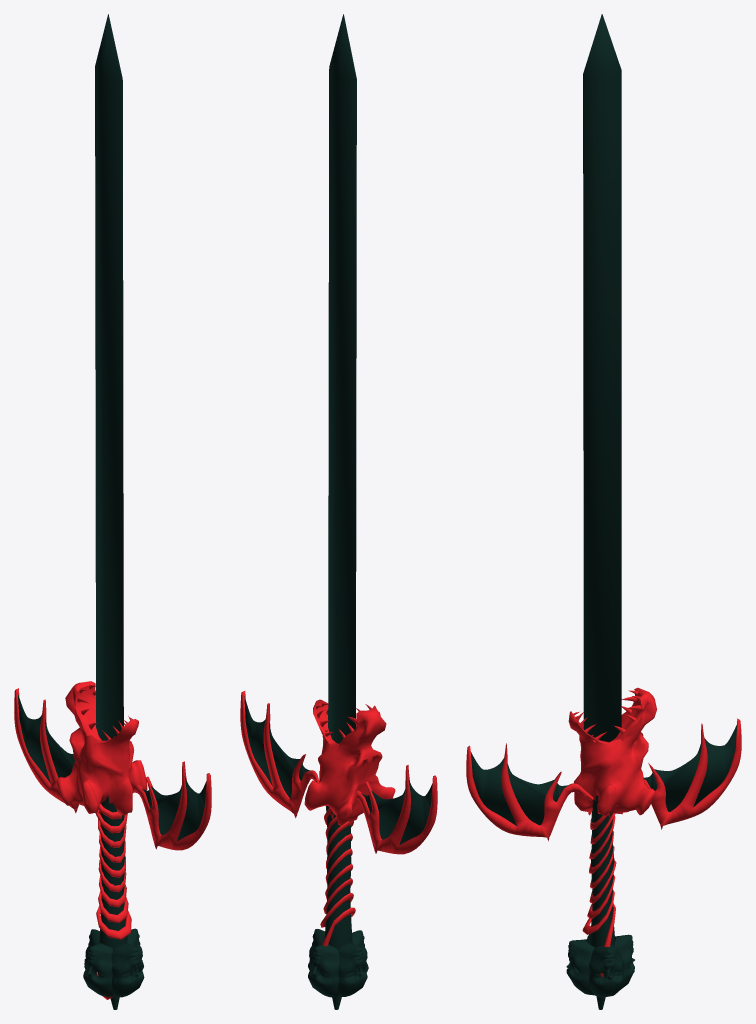
The model's file is xuejiao.FBX.
3 views of the same model, side by side, from view 1: azimuth 30°, elevation 25°; view 2: azimuth 210°, elevation 25°; view 3: azimuth 270°, elevation 25° (orthographic).
Visible parts, largest first — view 1: Box01, head, Spring01, Line04, Cylinder01, Line03, Line06, Line01, CreatureCreatorObject03, CreatureCreatorObject04; view 2: Box01, head, Line01, Cylinder01, Line04, Line06, Line03, Spring01, CreatureCreatorObject01, CreatureCreatorObject02; view 3: Box01, head, Line04, Line03, Line06, Line01, Cylinder01, Spring01, CreatureCreatorObject01, CreatureCreatorObject03, CreatureCreatorObject02.
Part boxes in pixels (box(x1,y1,x2,y2)): Box01: box(95, 14, 123, 740); head: box(56, 681, 147, 815); Spring01: box(91, 803, 131, 999); Line04: box(132, 761, 211, 850); Cylinder01: box(99, 795, 127, 1009); Line03: box(141, 776, 206, 841); Line06: box(17, 693, 75, 783); Line01: box(14, 688, 78, 813); CreatureCreatorObject03: box(111, 943, 144, 997); CreatureCreatorObject04: box(83, 942, 112, 996); Box01: box(328, 14, 356, 743); head: box(304, 699, 395, 825); Line01: box(356, 765, 437, 854); Cylinder01: box(324, 806, 352, 1009); Line04: box(240, 691, 319, 818); Line06: box(361, 779, 432, 845); Line03: box(244, 696, 310, 798); Spring01: box(320, 808, 355, 946); CreatureCreatorObject01: box(308, 944, 339, 997); CreatureCreatorObject02: box(338, 943, 367, 996); Box01: box(583, 14, 621, 741); head: box(568, 687, 656, 818); Line04: box(466, 743, 593, 841); Line03: box(470, 751, 569, 825); Line06: box(643, 724, 737, 811); Line01: box(644, 718, 741, 829); Cylinder01: box(590, 795, 615, 1009); Spring01: box(582, 809, 616, 976); CreatureCreatorObject01: box(589, 945, 623, 997); CreatureCreatorObject03: box(566, 939, 594, 995); CreatureCreatorObject02: box(578, 934, 634, 988).
Bounding box in the file's own units: 8.47 × 109 × 27.53.
